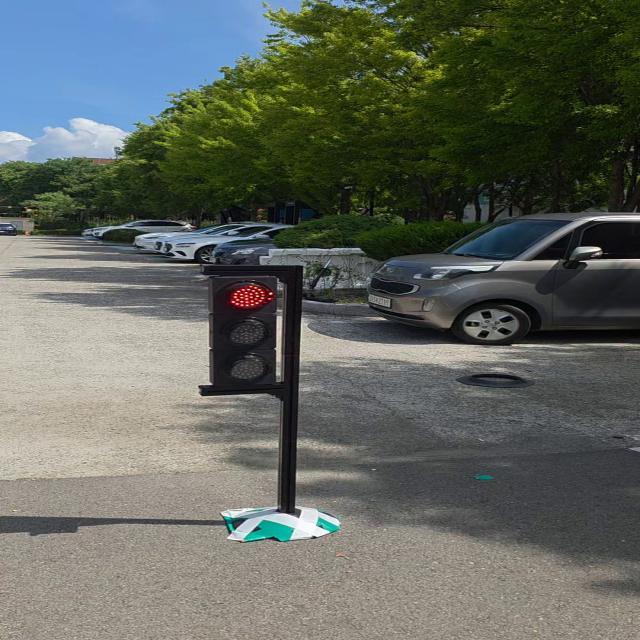red: (193, 259, 317, 404)
